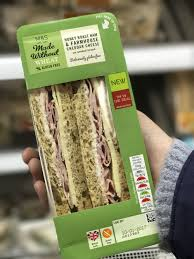sandwich: (1, 7, 193, 258)
